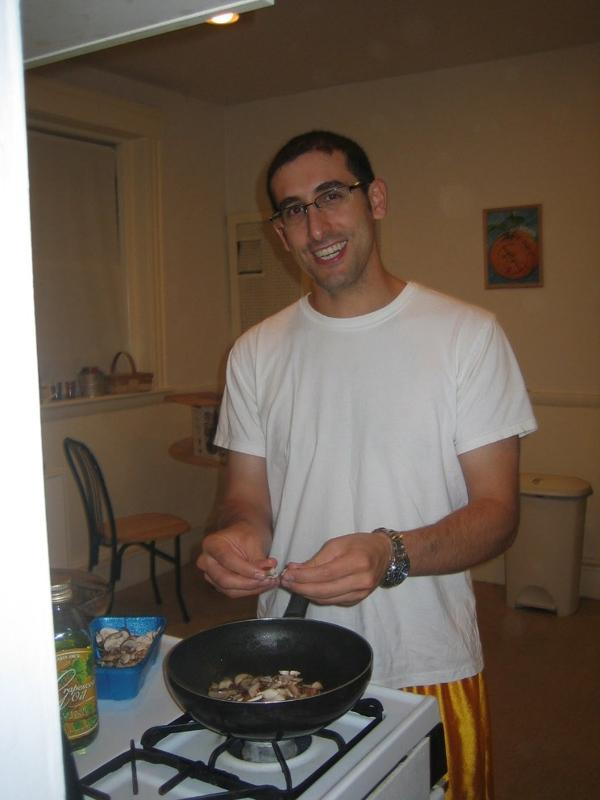person: (202, 130, 525, 797)
